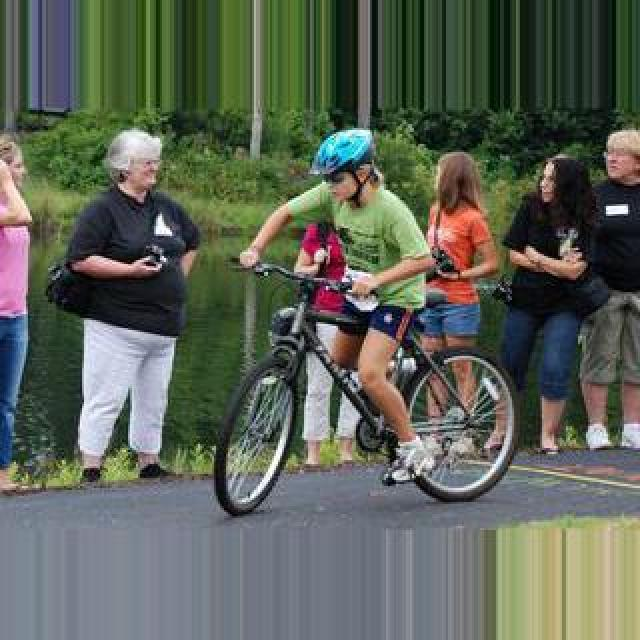MC-Bike: (236, 130, 438, 482), (50, 126, 204, 492), (496, 148, 606, 458), (578, 136, 640, 450), (424, 152, 500, 392), (0, 138, 34, 478)
Person: (214, 262, 526, 510)
